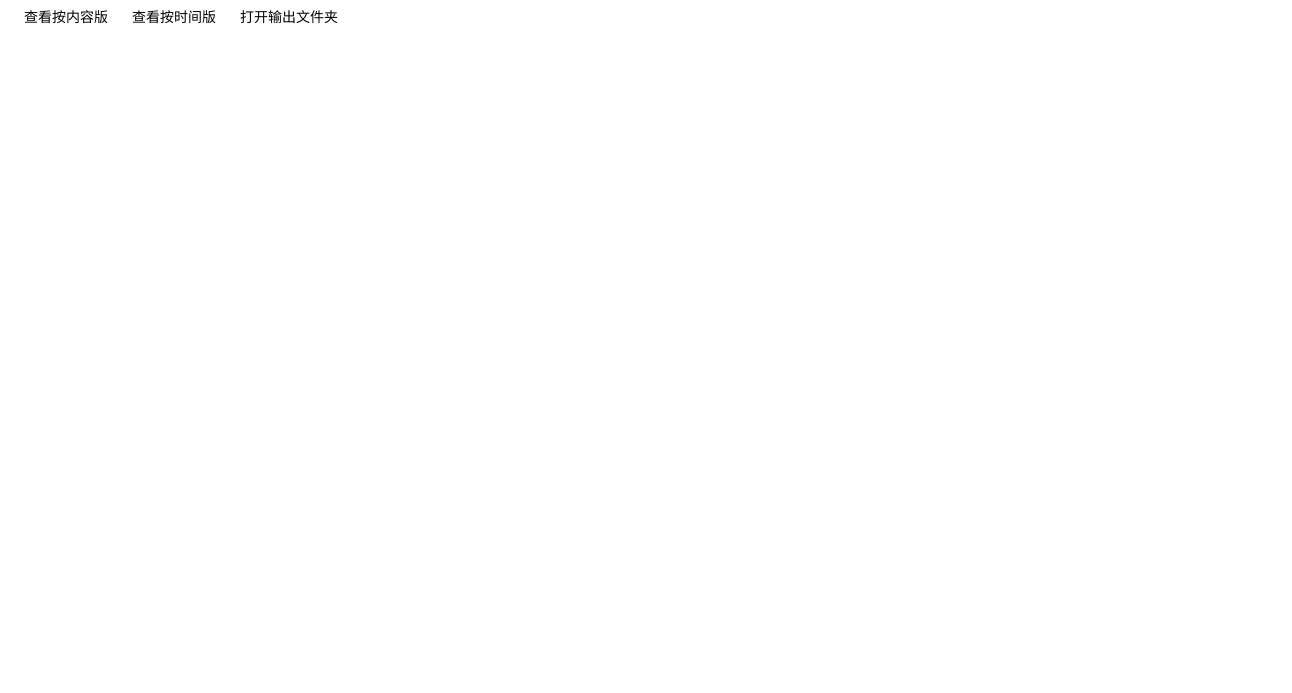
已保活的会议页从完成提示切换两版正文并聚焦结果，不打开目录
Click the link "查看按时间版" at (174, 16), box [132, 8, 216, 25]
(page scrolled)
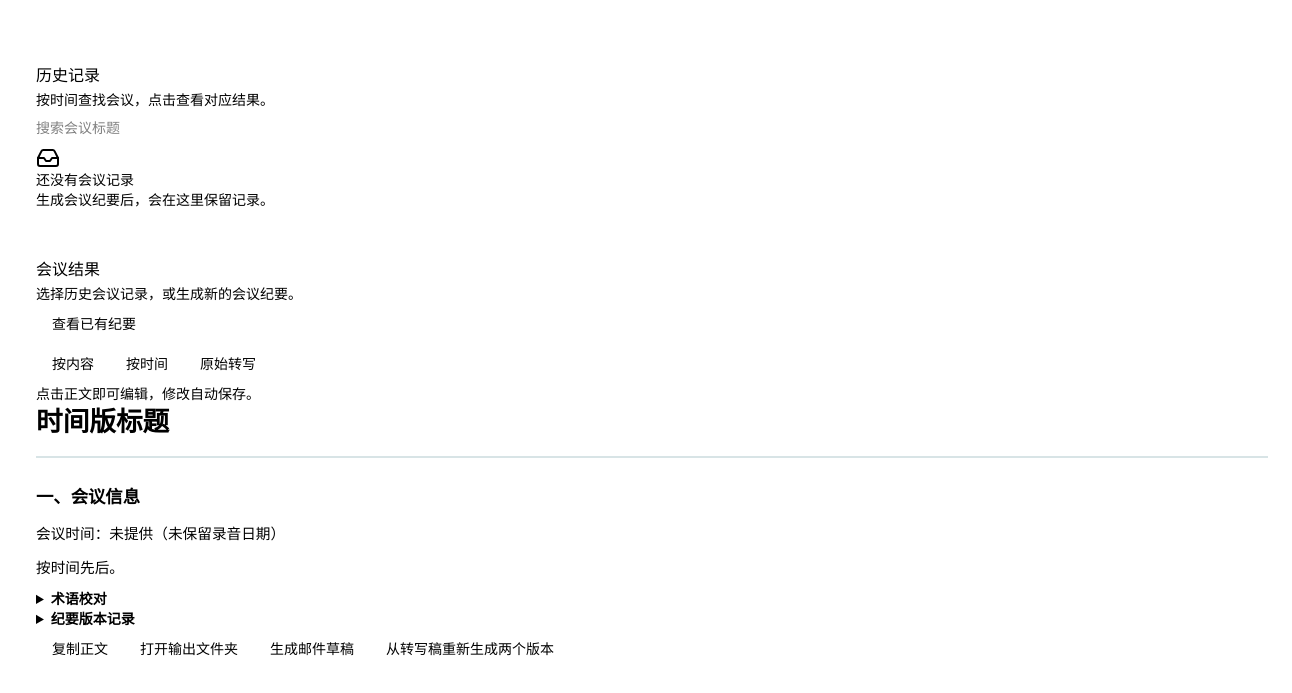
Now the text box shows "时间版标题", box [36, 404, 1268, 589]
Now the link "查看按内容版" is gone
Click the button "按内容" at (73, 364), box [36, 344, 110, 384]
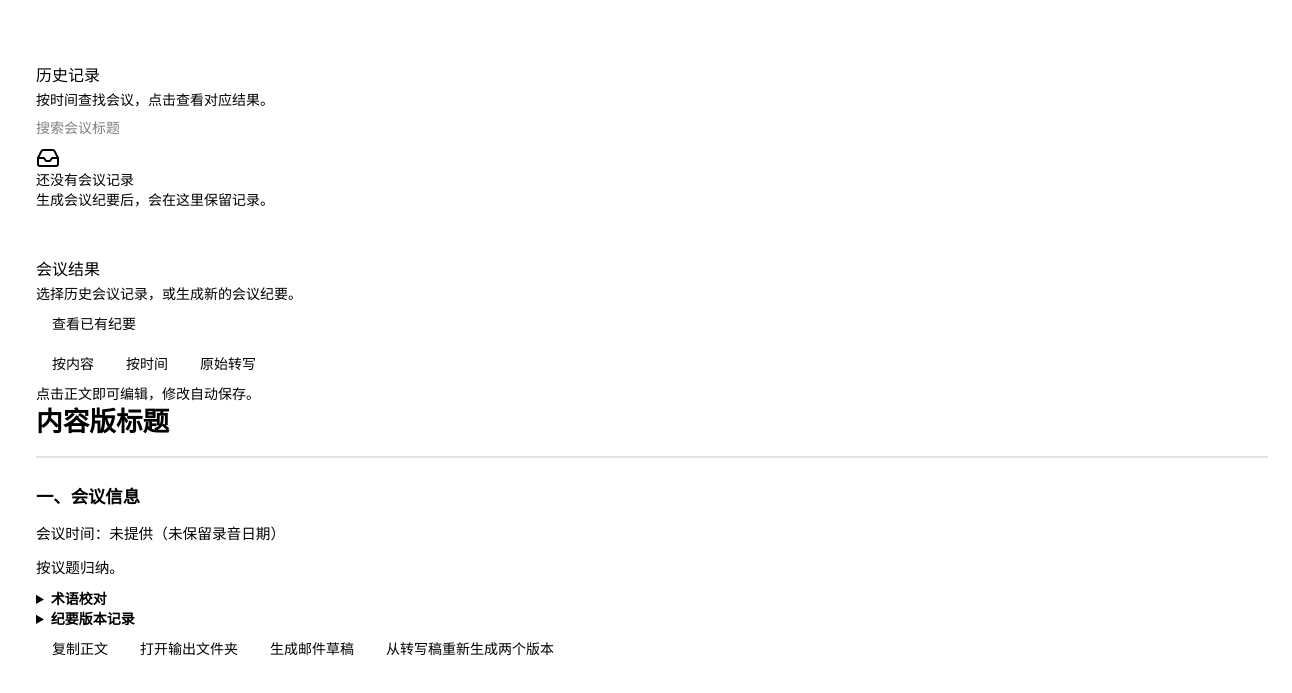
Now the text box shows "内容版标题", box [36, 404, 1268, 589]
